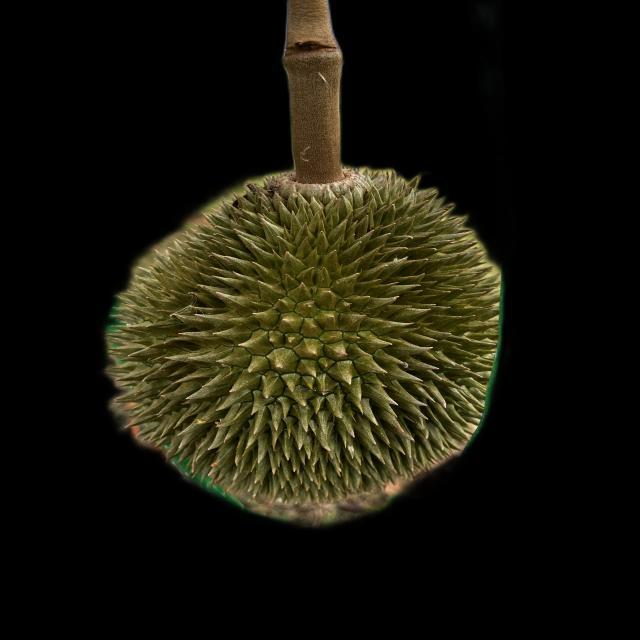immature: (96, 168, 502, 520)
